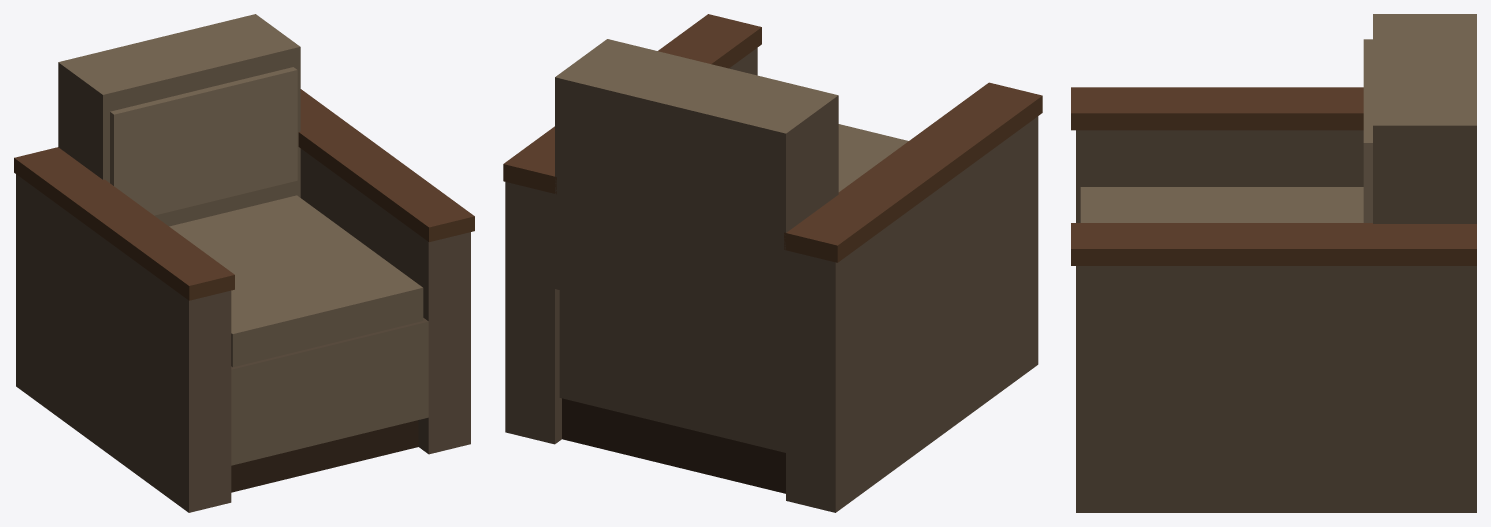
File: armchair.glb
The picture shows the model from 3 angles, left to right: view 1: azimuth 30°, elevation 25°; view 2: azimuth 150°, elevation 25°; view 3: azimuth 270°, elevation 25°; orthographic projection. The views are drawn at different scales.
Parts seen in each view (by area): view 1: armchair; view 2: armchair; view 3: armchair.
Part boxes in pixels (box(x1,y1,x2,y2)): armchair: box(14, 14, 474, 512); armchair: box(503, 14, 1042, 512); armchair: box(1071, 14, 1476, 512).
Size of the model in its own units: 0.81 by 0.85 by 0.86.
